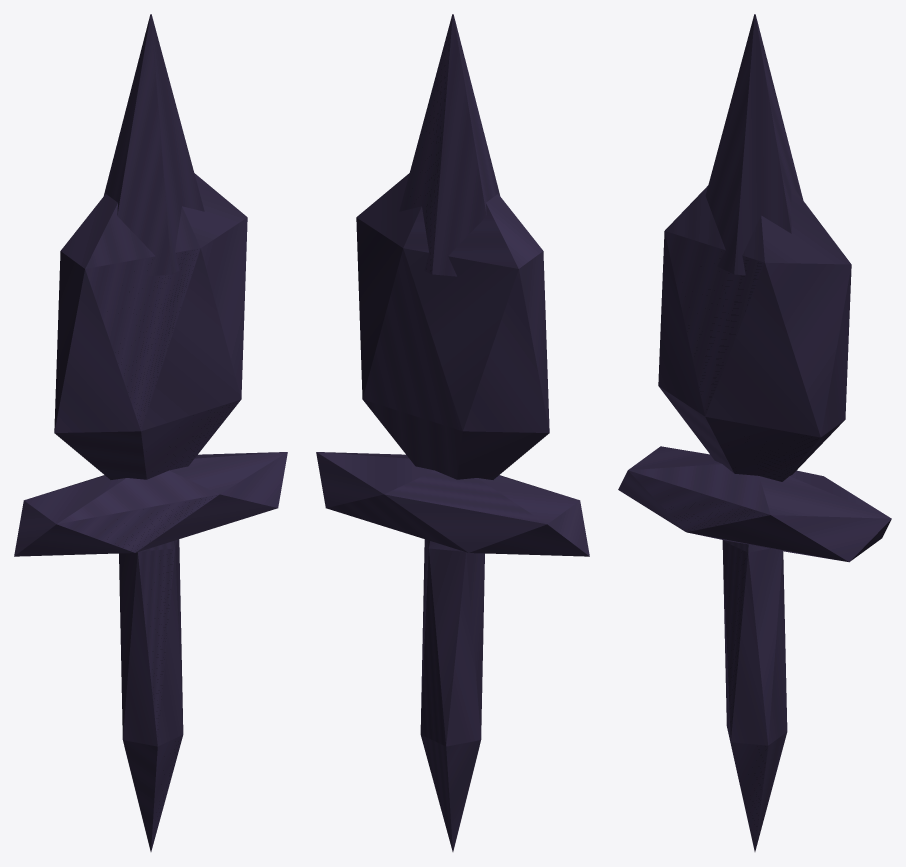
Rendered from slick_oil.glb.
The picture shows the model from 3 angles, left to right: view 1: azimuth 30°, elevation 25°; view 2: azimuth 150°, elevation 25°; view 3: azimuth 330°, elevation 25°; orthographic projection.
Visible parts, largest first — view 1: gear_slick_oil; view 2: gear_slick_oil; view 3: gear_slick_oil.
Boxes of the visible parts, x1=… form: gear_slick_oil: x1=14, y1=14, x2=287, y2=851; gear_slick_oil: x1=316, y1=14, x2=589, y2=851; gear_slick_oil: x1=618, y1=14, x2=891, y2=851.
Size of the model in its own units: 0.3041 by 0.89 by 0.1021.
1 material, 1 textured.
